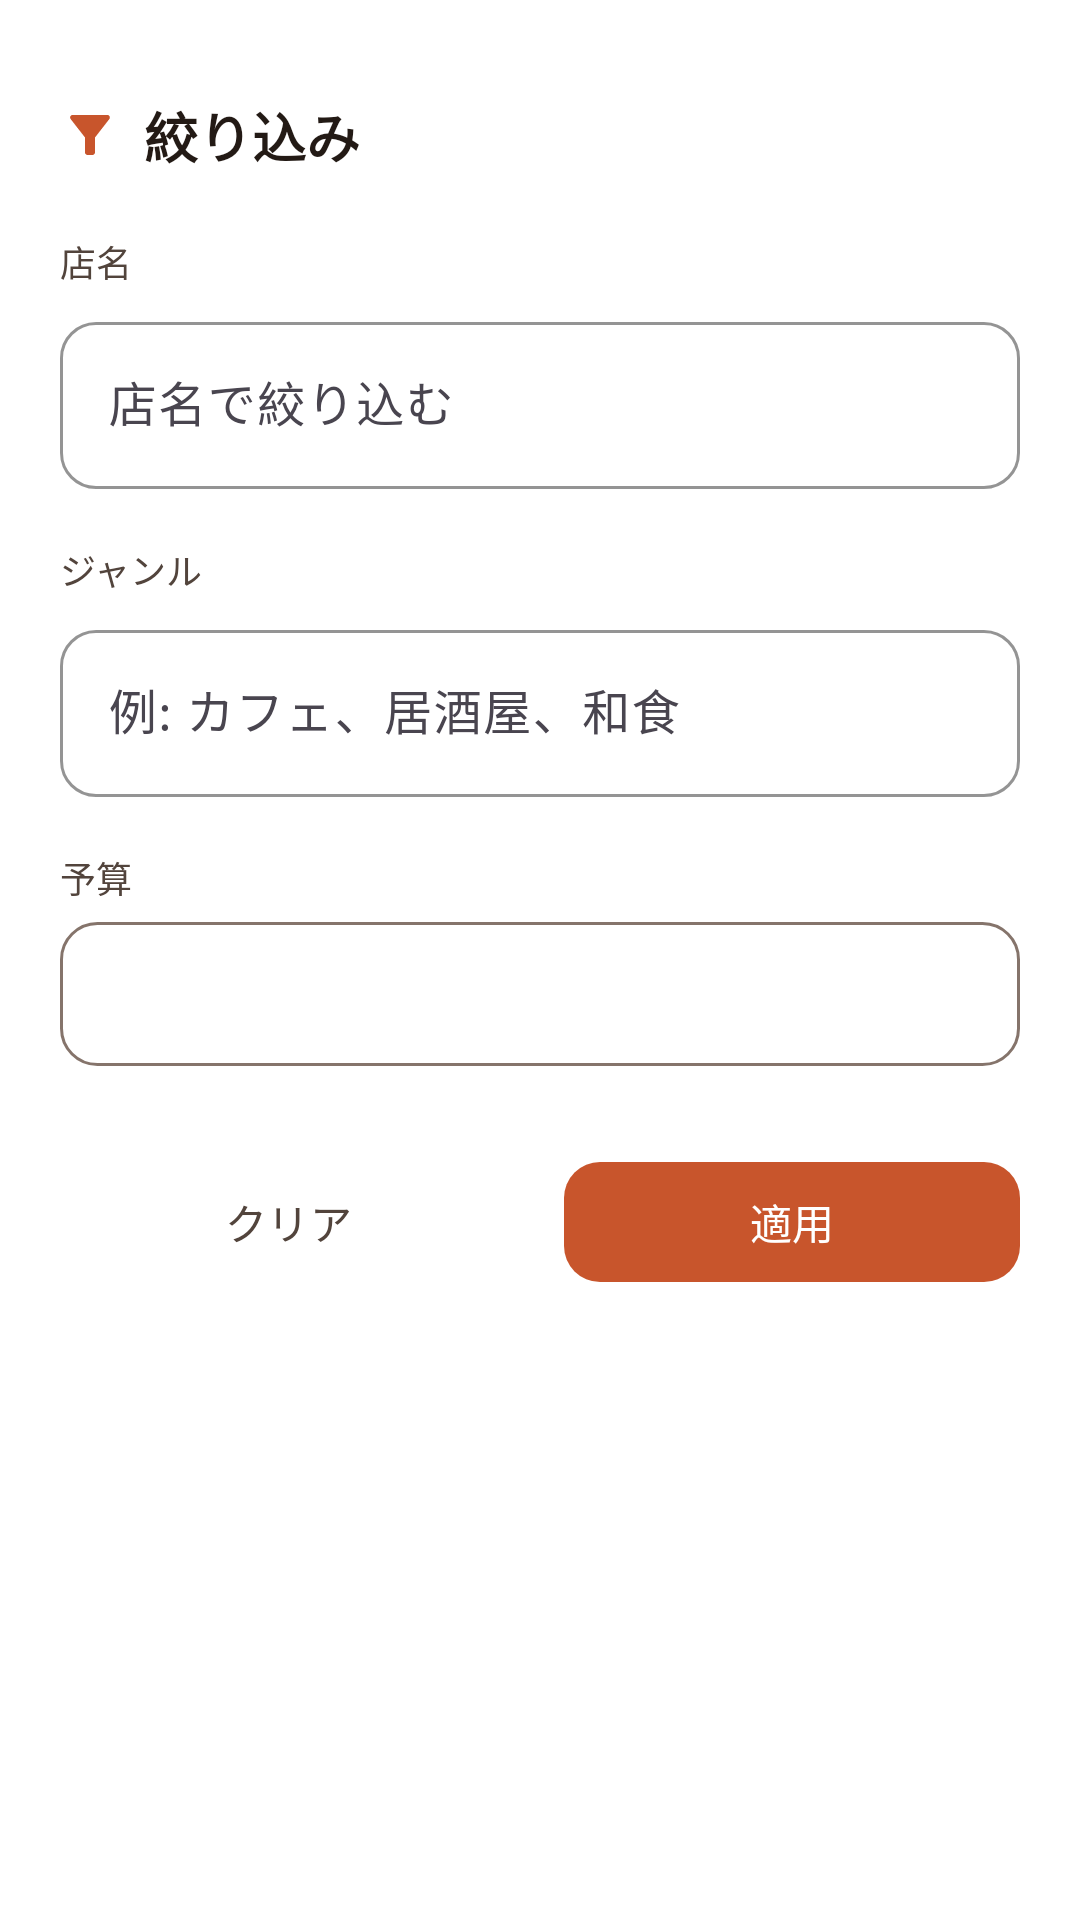

Named icons in this screenshot (1080 × 1920) and their bounding boxes, [left=x1, top=y1, right=x2, bottom=y2]:
filter: [left=70, top=115, right=110, bottom=155]
